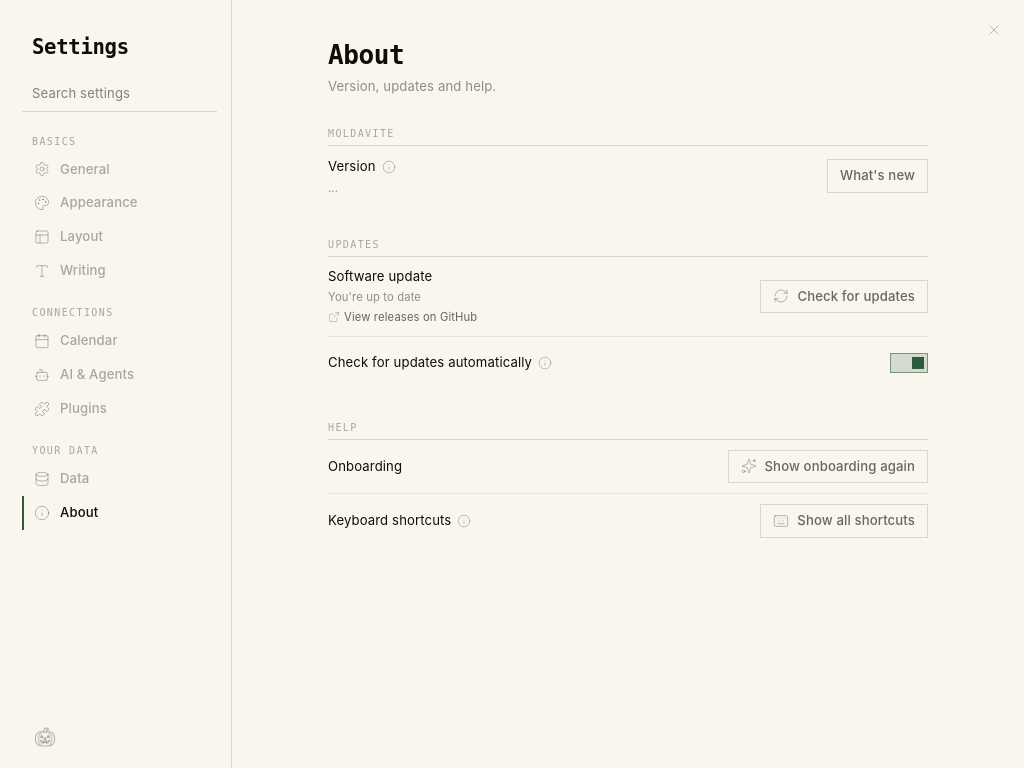
Scenario: SettingsModal on the desktop › switches tabs from the navigation
The width and height of the screenshot is (1024, 768).
Step 1. Click the button "Writing" → point(120, 271), box [22, 254, 217, 287]
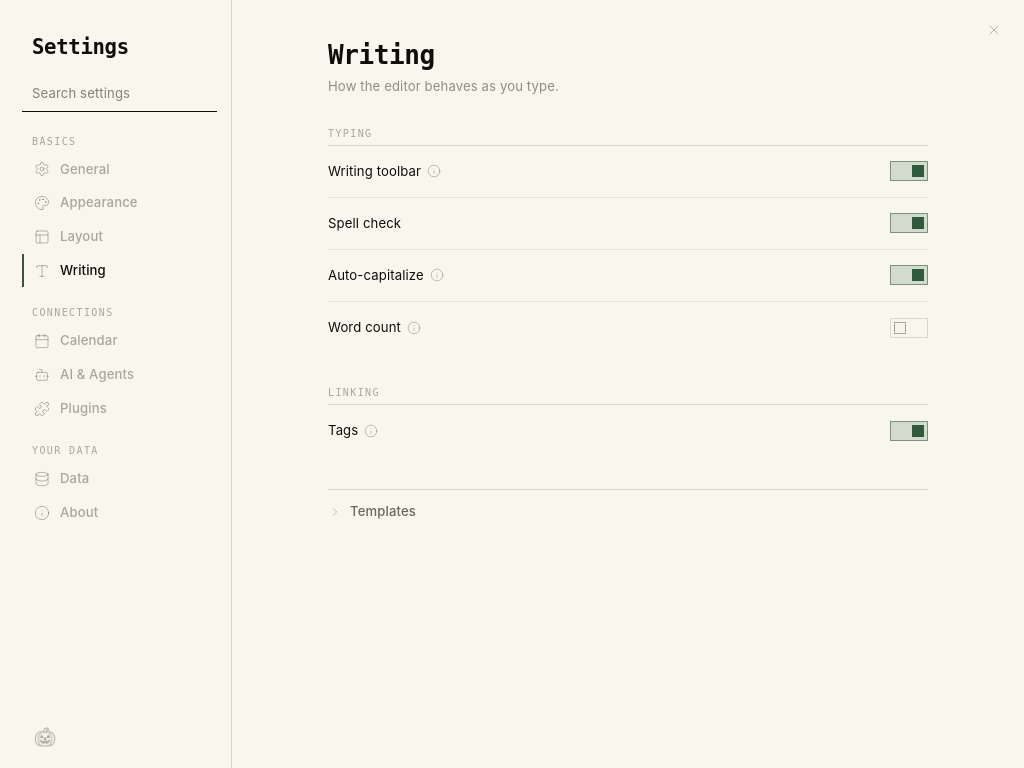
Now the heading "Writing" is shown, box [328, 40, 435, 71]
